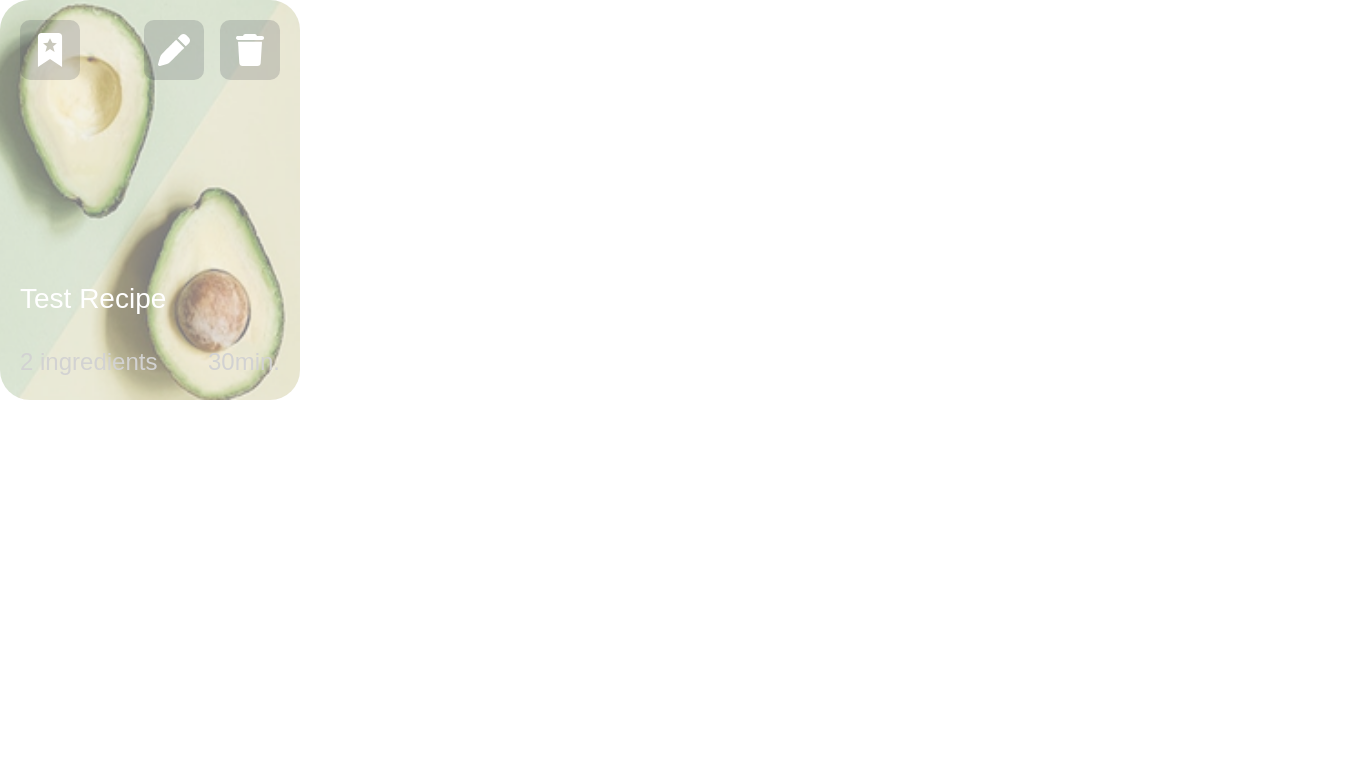
Test: Recipe card test › Open edit modal after click edit button
Click the button named "change recipe button" at [174, 50], box [144,20,204,80]
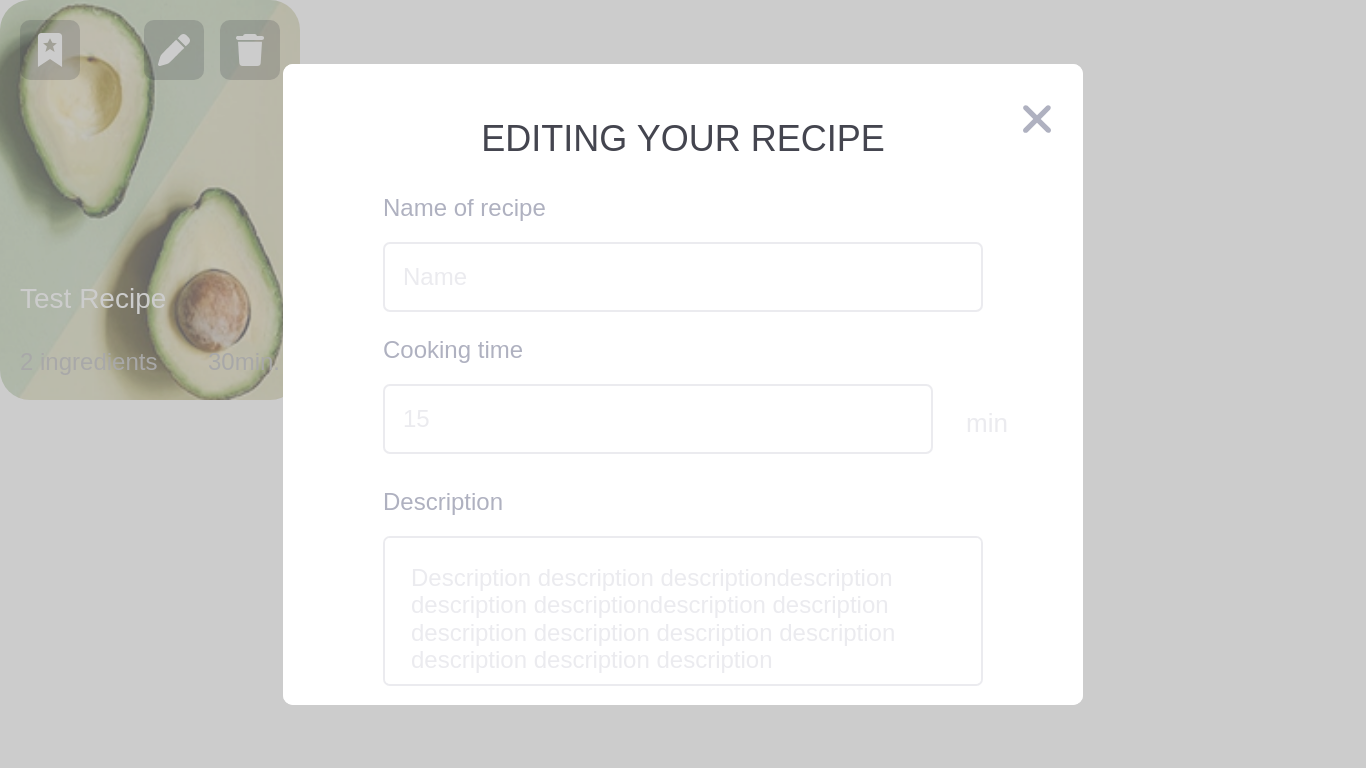
Now the heading "editing your recipe" is shown, box [481,112,885,166]
